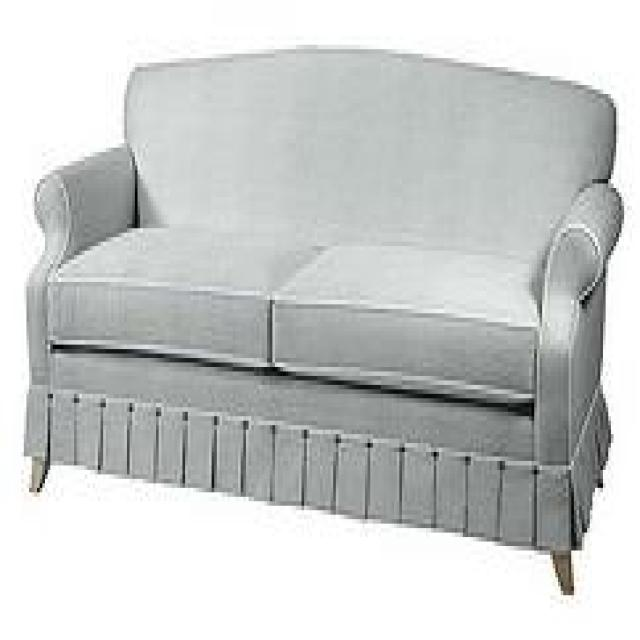sofa: (21, 41, 624, 596)
